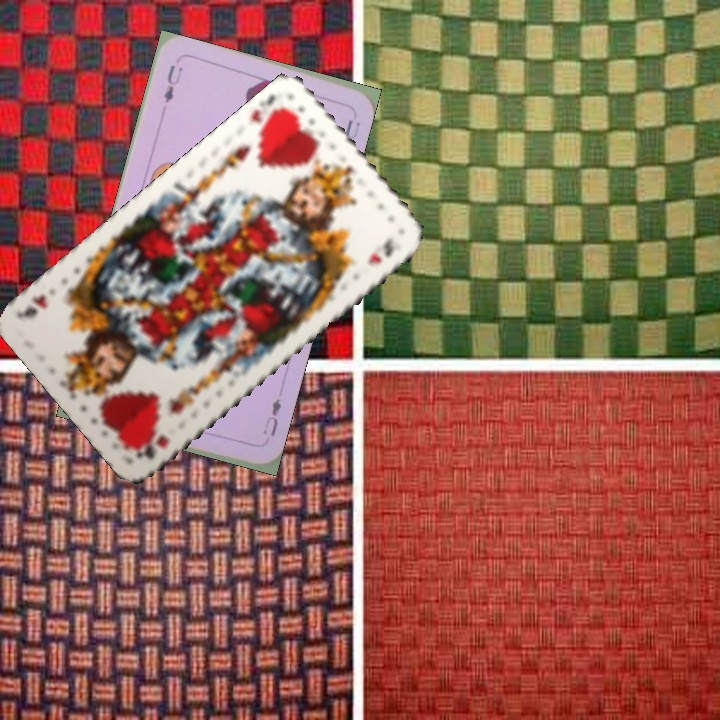EU: (159, 60, 185, 106), (258, 394, 284, 439)
HK: (246, 89, 291, 138), (132, 429, 172, 463)
